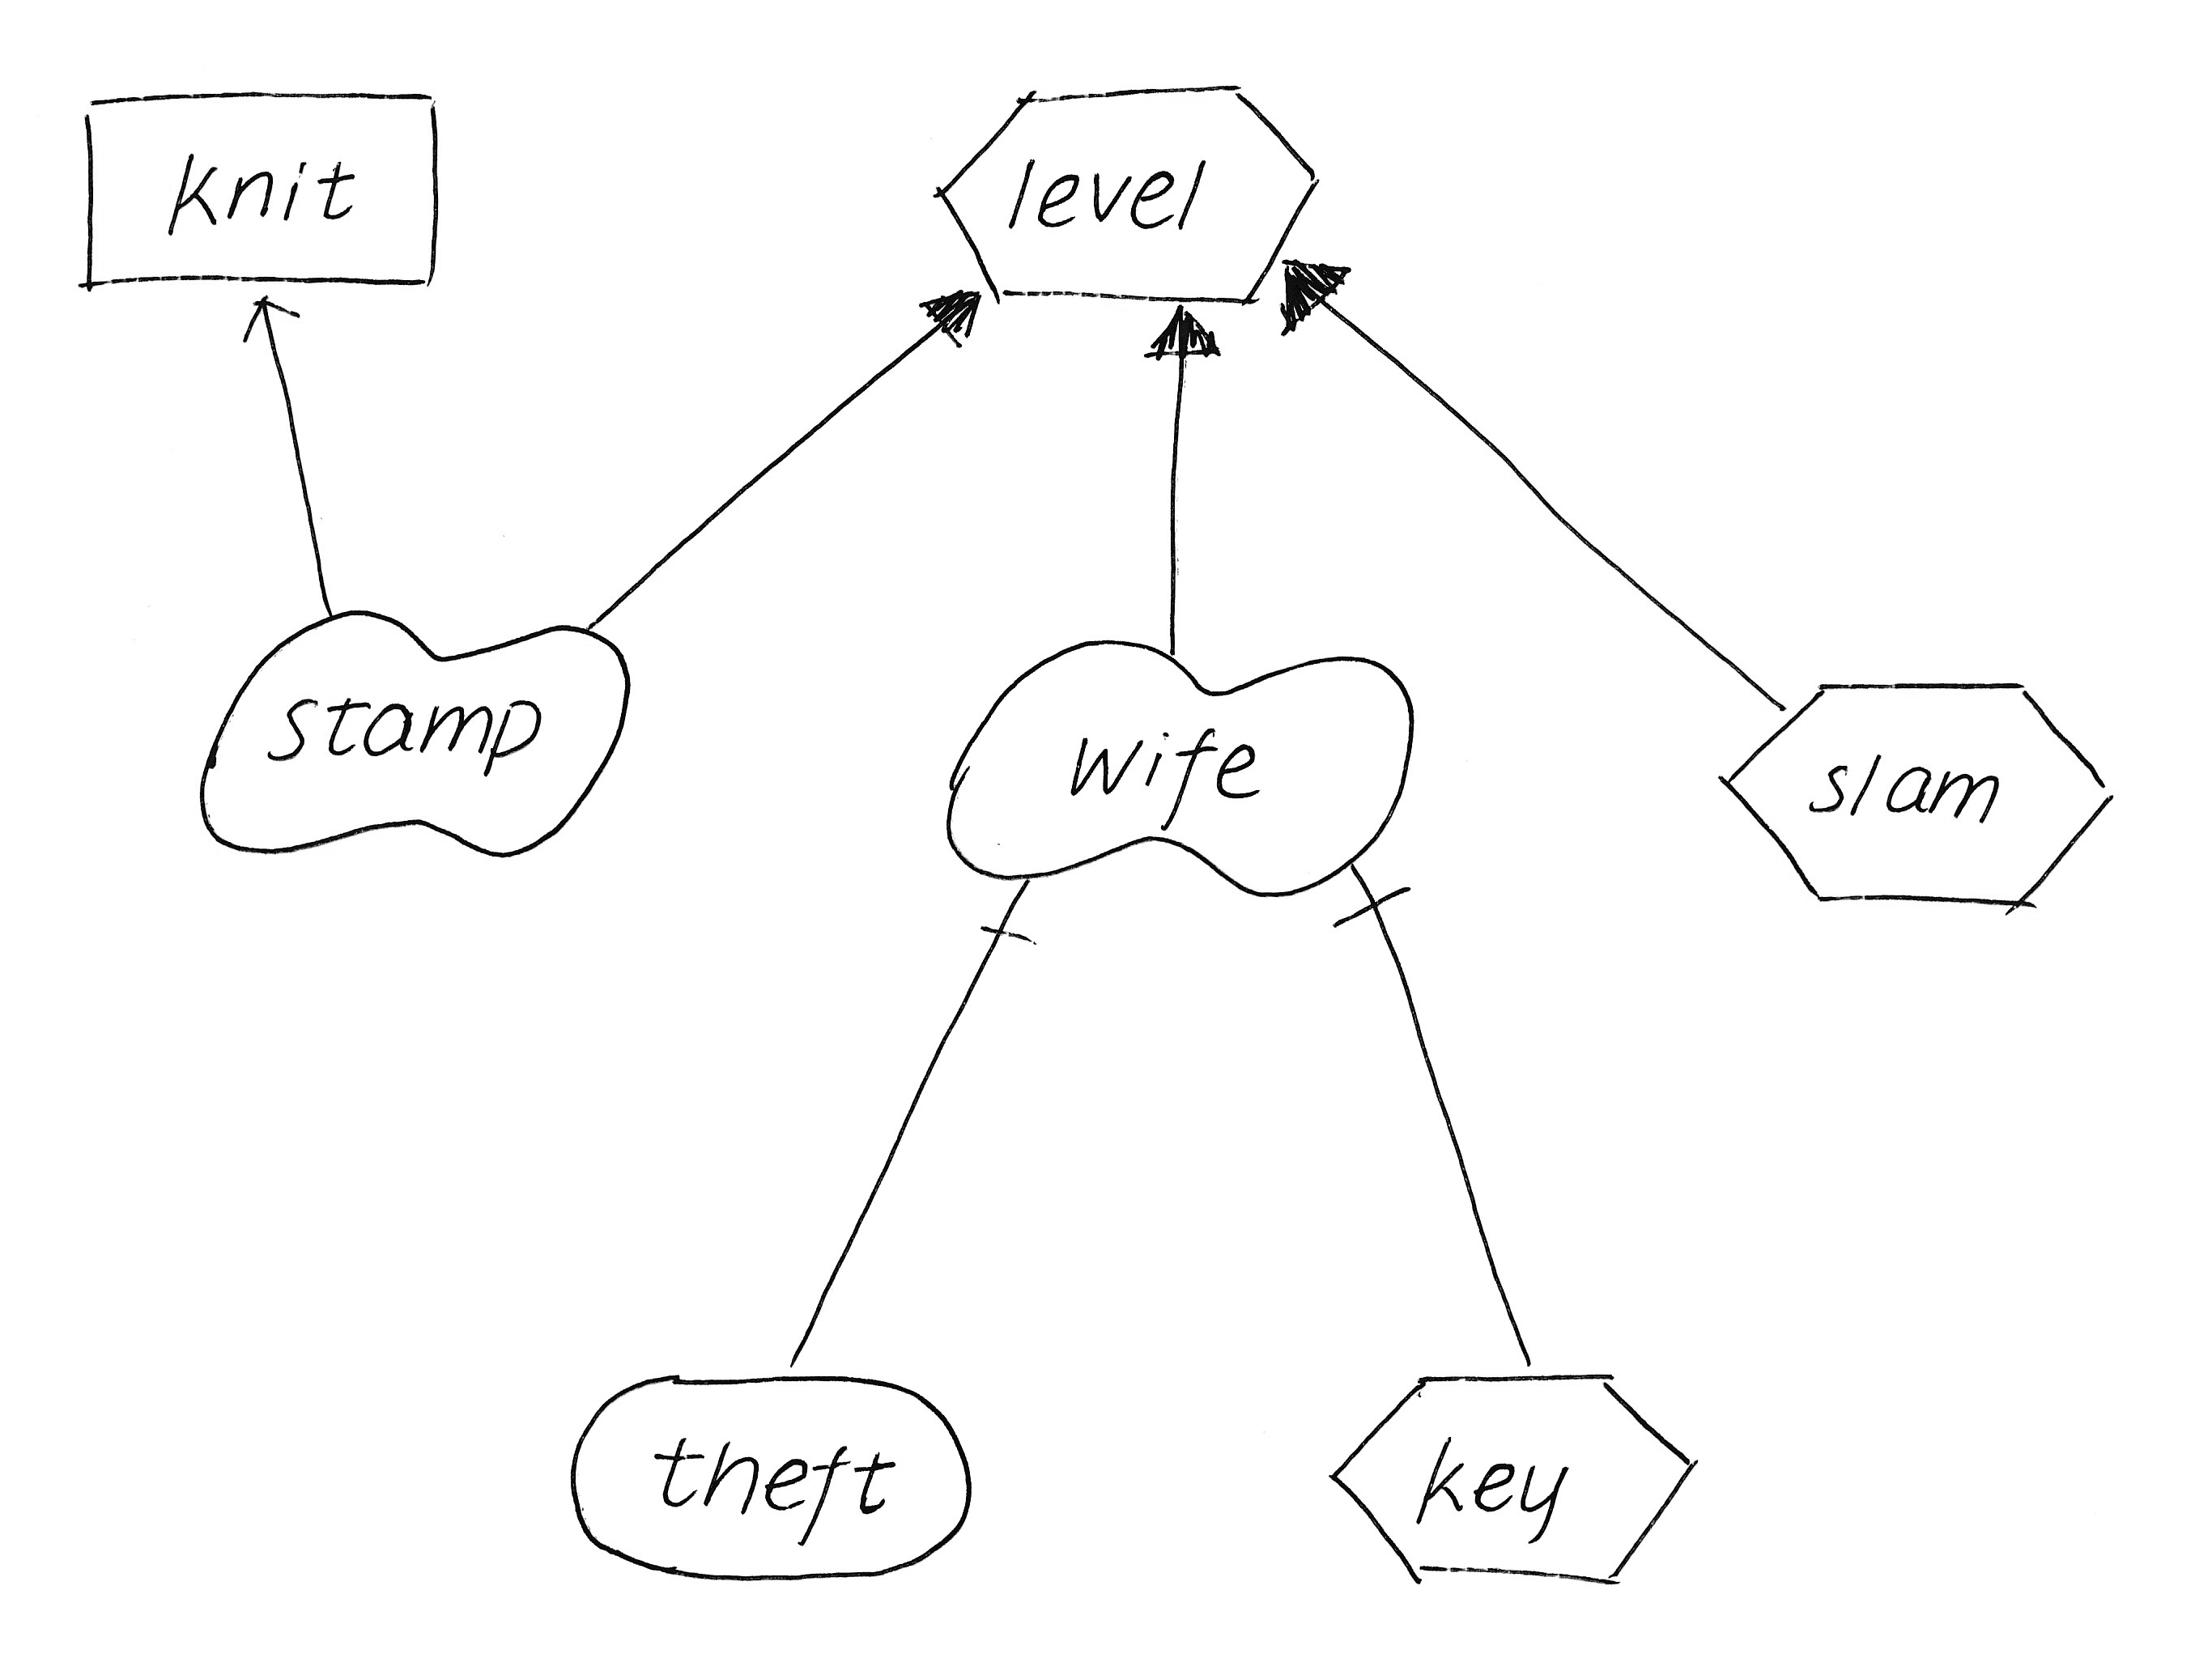and: (1322, 853, 1420, 944), (965, 871, 1052, 963)
arrow: (233, 280, 307, 348)
goal: (547, 1351, 993, 1597)
or: (1139, 296, 1233, 381), (1271, 247, 1359, 338), (904, 272, 986, 357)
quality: (927, 622, 1418, 900), (179, 590, 650, 876)
resource: (71, 75, 470, 313)
task: (1693, 658, 2137, 925), (911, 61, 1343, 331), (1310, 1358, 1714, 1599)
